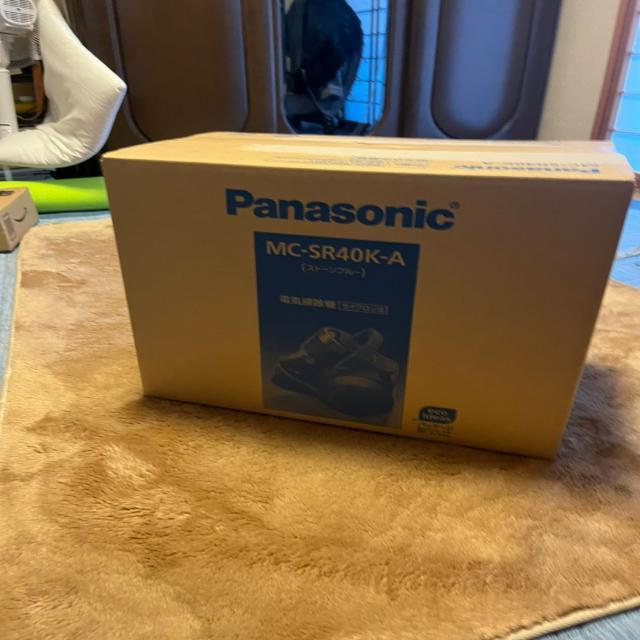-: (90, 122, 636, 464)
